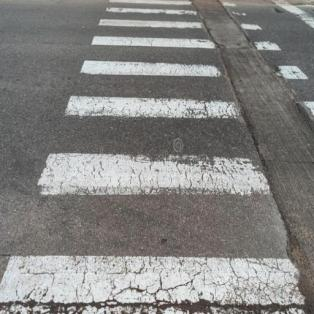Paso de Cebra: (30, 86, 282, 220), (77, 30, 230, 80)
